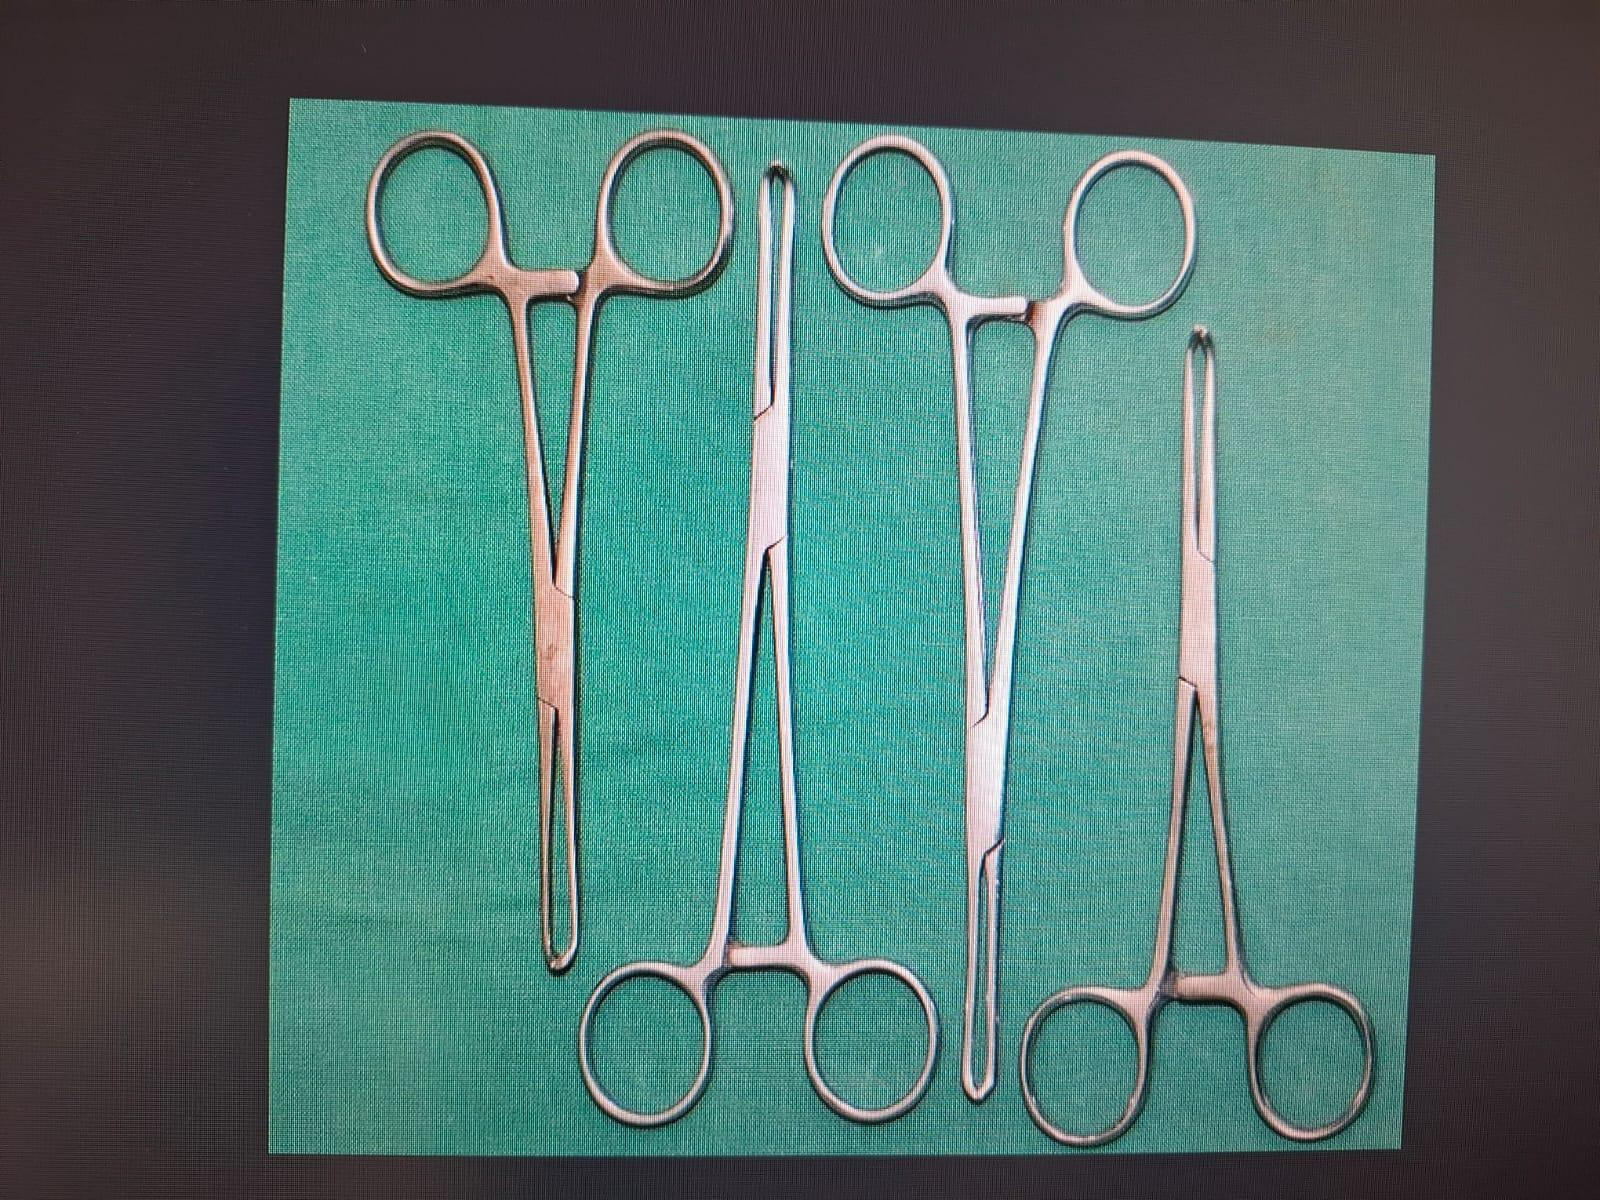Allis Forceps: (562, 146, 947, 1148), (818, 124, 1199, 1108), (994, 316, 1403, 1158), (357, 118, 732, 976)
